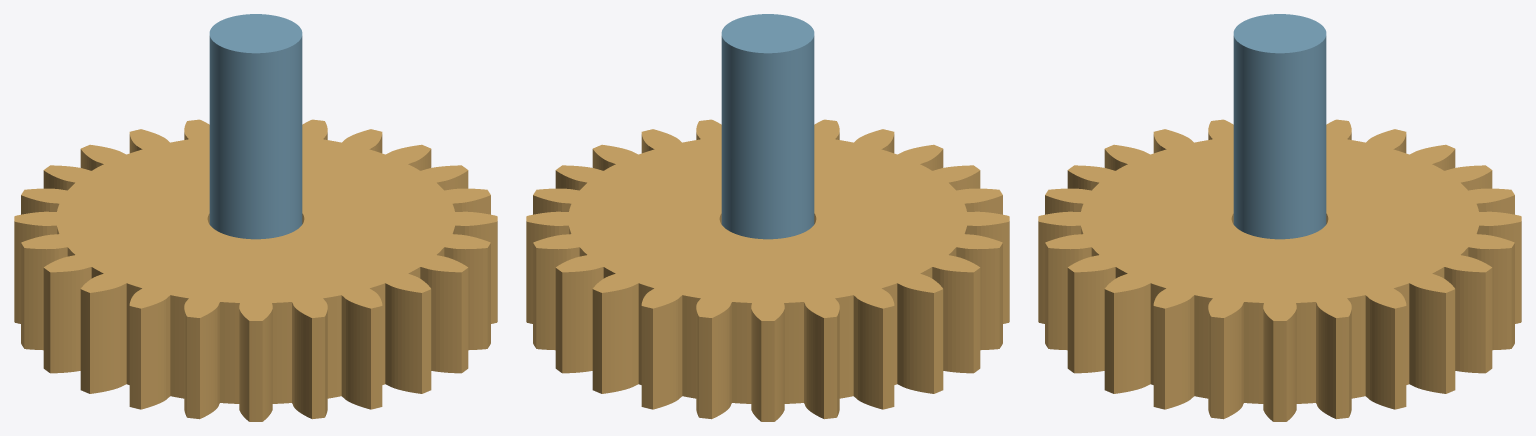
The model's file is gear.glb.
The picture shows the model from 3 angles, left to right: view 1: azimuth 30°, elevation 25°; view 2: azimuth 150°, elevation 25°; view 3: azimuth 270°, elevation 25°; orthographic projection.
Parts seen in each view (by area): view 1: 24齿渐开线示意齿轮 · m2 · 20°, 轴 Ø10 × 28; view 2: 24齿渐开线示意齿轮 · m2 · 20°, 轴 Ø10 × 28; view 3: 24齿渐开线示意齿轮 · m2 · 20°, 轴 Ø10 × 28.
Part boxes in pixels (x1,y1,x2,y2): 24齿渐开线示意齿轮 · m2 · 20°: (14,119,497,421); 轴 Ø10 × 28: (209,14,302,239); 24齿渐开线示意齿轮 · m2 · 20°: (526,119,1009,421); 轴 Ø10 × 28: (721,14,814,239); 24齿渐开线示意齿轮 · m2 · 20°: (1038,119,1521,421); 轴 Ø10 × 28: (1233,14,1326,239).
Bounding box in the file's own units: 0.052 × 0.034 × 0.052.
